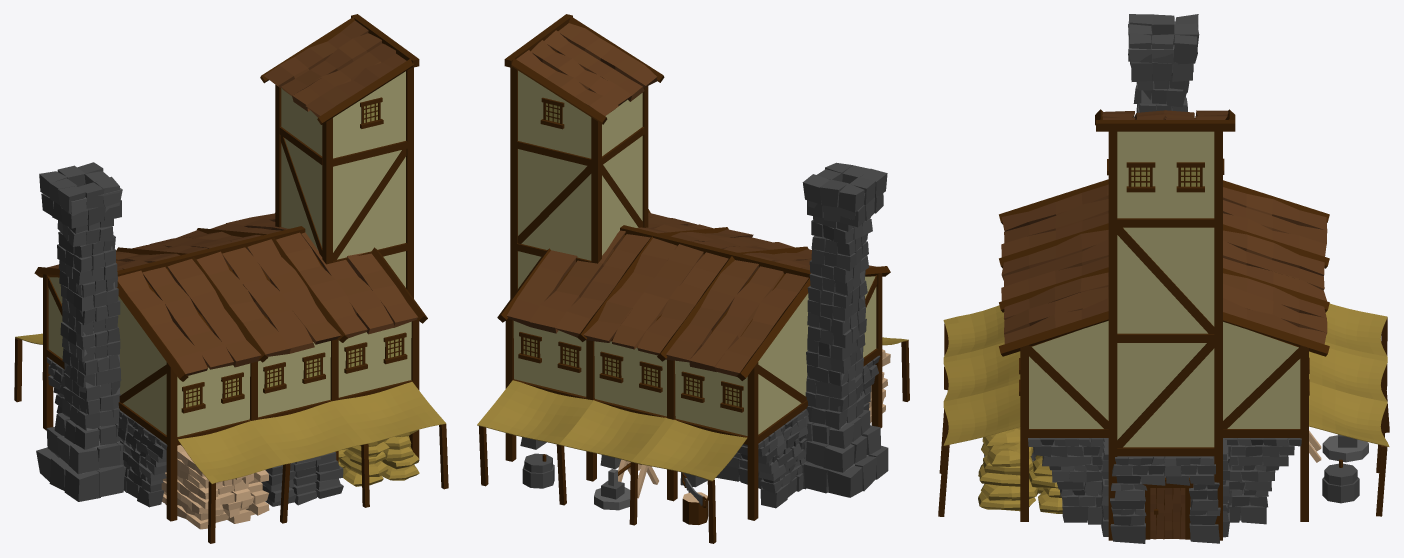
The model's file is TownHall.fbx.
3 renders of one model, left to right at view 1: azimuth 30°, elevation 25°; view 2: azimuth 150°, elevation 25°; view 3: azimuth 270°, elevation 25°, orthographic. The views are drawn at different scales.
Parts seen in each view (by area): view 1: Building.001, StorageWood 2, StorageWood 1, StorageStone 1, StorageStone 2, StorageWood 3, StorageFood 2, StorageFood 1, StorageFood 3, StorageWood 4, StorageStone 3; view 2: Building.001, AutomaticHummer, Tree, Crusher; view 3: Building.001, StorageFood 3, StorageFood 4, AutomaticHummer, StorageFood 1, StorageFood 2, Crusher, Top.001.
Boxes of the visible parts, x1=… form: Building.001: x1=14, y1=14, x2=448, y2=543; StorageWood 2: x1=161, y1=472, x2=268, y2=513; StorageWood 1: x1=162, y1=491, x2=269, y2=529; StorageStone 1: x1=262, y1=478, x2=343, y2=506; StorageStone 2: x1=261, y1=460, x2=343, y2=492; StorageWood 3: x1=177, y1=467, x2=268, y2=499; StorageFood 2: x1=339, y1=448, x2=419, y2=476; StorageFood 1: x1=338, y1=449, x2=419, y2=486; StorageFood 3: x1=383, y1=436, x2=413, y2=461; StorageWood 4: x1=177, y1=445, x2=249, y2=488; StorageStone 3: x1=265, y1=452, x2=336, y2=475; Building.001: x1=477, y1=14, x2=909, y2=543; AutomaticHummer: x1=594, y1=459, x2=658, y2=510; Tree: x1=682, y1=492, x2=707, y2=524; Crusher: x1=522, y1=464, x2=554, y2=488; Building.001: x1=938, y1=14, x2=1389, y2=543; StorageFood 3: x1=979, y1=455, x2=1057, y2=488; StorageFood 4: x1=981, y1=427, x2=1042, y2=466; AutomaticHummer: x1=1309, y1=430, x2=1368, y2=462; StorageFood 1: x1=978, y1=488, x2=1062, y2=513; StorageFood 2: x1=978, y1=455, x2=1061, y2=500; Crusher: x1=1322, y1=477, x2=1359, y2=503; Top.001: x1=1324, y1=459, x2=1357, y2=485.
Size of the model in its own units: 1665 by 1736 by 1691.
